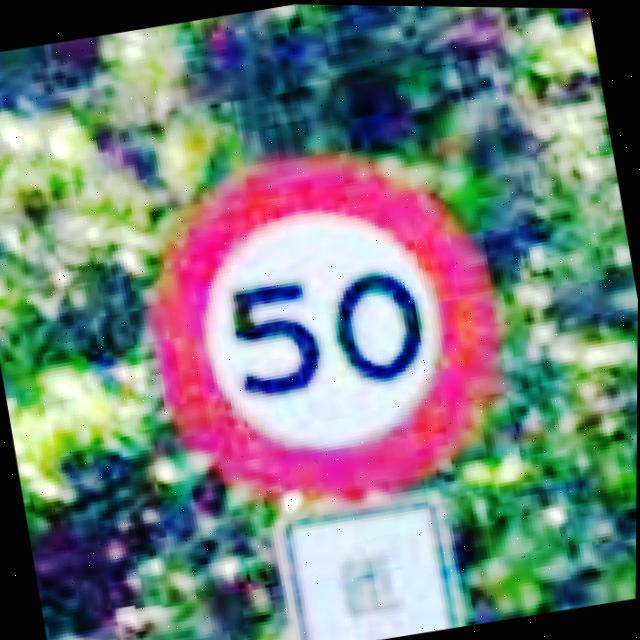max50: (117, 117, 532, 532)
